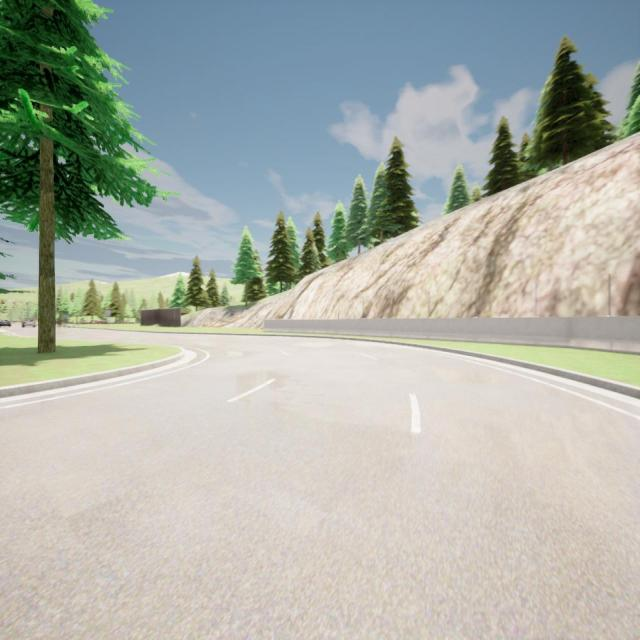Vehicle: (21, 316, 36, 329), (0, 317, 12, 330)
